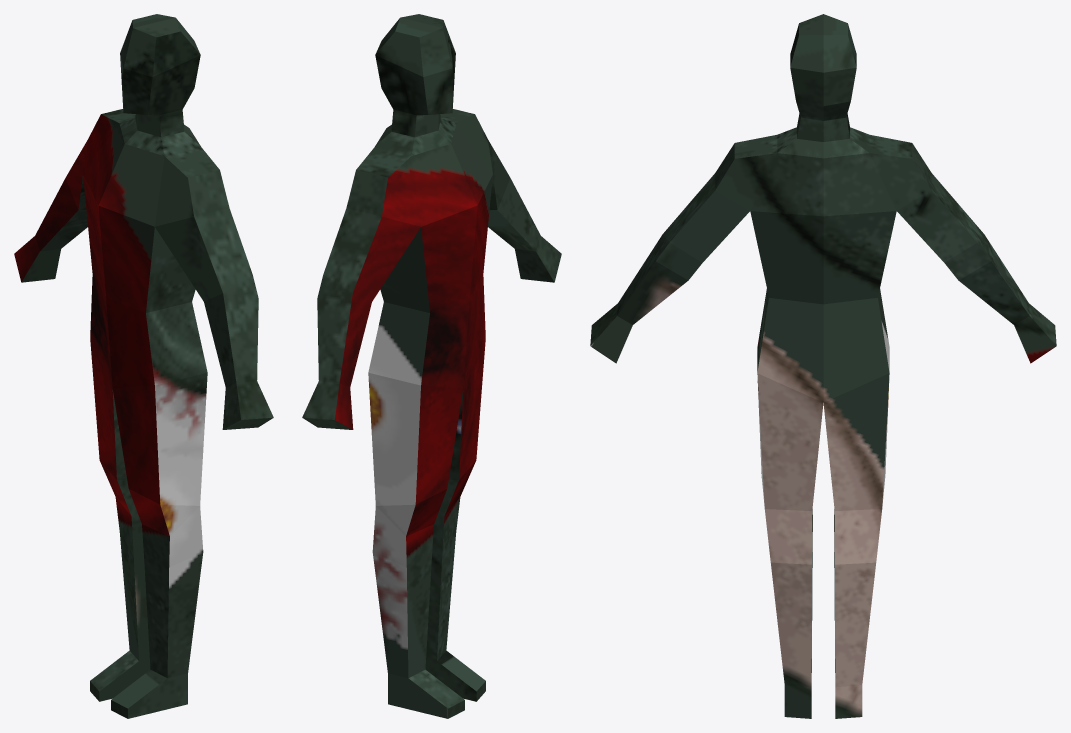
The model's file is npc.obj.
3 views of the same model, side by side, from view 1: azimuth 30°, elevation 25°; view 2: azimuth 150°, elevation 25°; view 3: azimuth 270°, elevation 25° (orthographic). The views are drawn at different scales.
Visible parts, largest first — view 1: npc_mesh; view 2: npc_mesh; view 3: npc_mesh.
Boxes of the visible parts, left/top/right/bottom form: npc_mesh: left=14, top=14, right=273, bottom=718; npc_mesh: left=302, top=14, right=561, bottom=718; npc_mesh: left=590, top=14, right=1056, bottom=718.
Bounding box in the file's own units: 37.23 × 249 × 154.
Materials: 1 (1 with a texture image).
